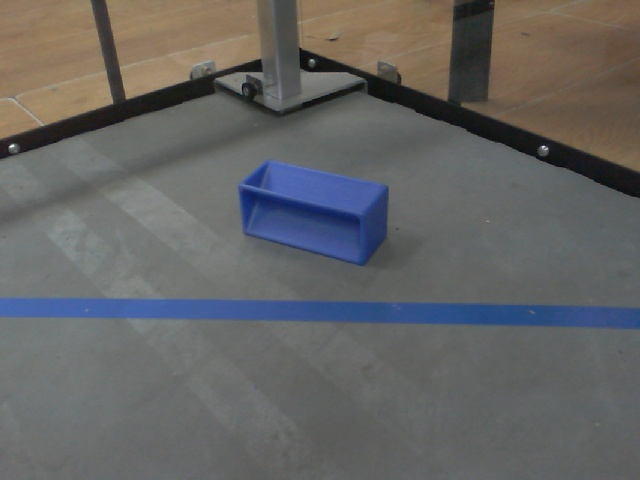BlueSample: (237, 157, 392, 275)
